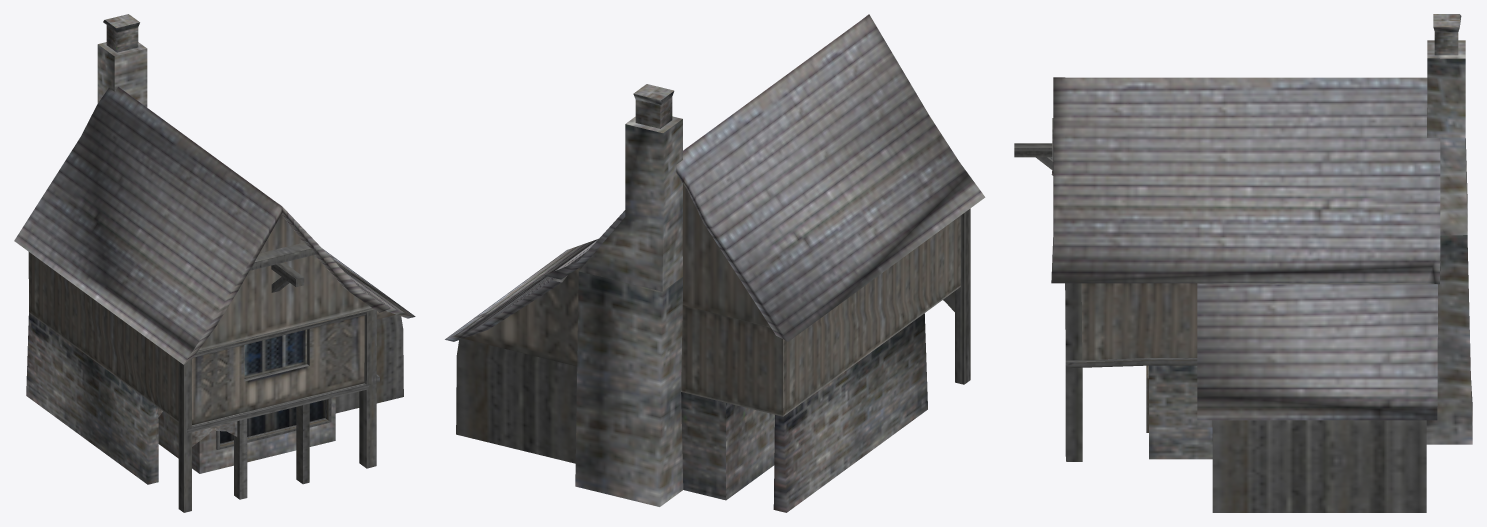
The picture shows the model from 3 angles, left to right: view 1: azimuth 30°, elevation 25°; view 2: azimuth 150°, elevation 25°; view 3: azimuth 270°, elevation 25°; orthographic projection. The views are drawn at different scales.
Visible parts, largest first — view 1: U3DMesh; view 2: U3DMesh; view 3: U3DMesh.
Boxes of the visible parts, x1,y1,x2,y2 form: U3DMesh: (14,14,415,512); U3DMesh: (445,14,985,512); U3DMesh: (1014,14,1472,512).
Bounding box in the file's own units: 462 × 514 × 543.
Materials: 1 (1 with a texture image).
